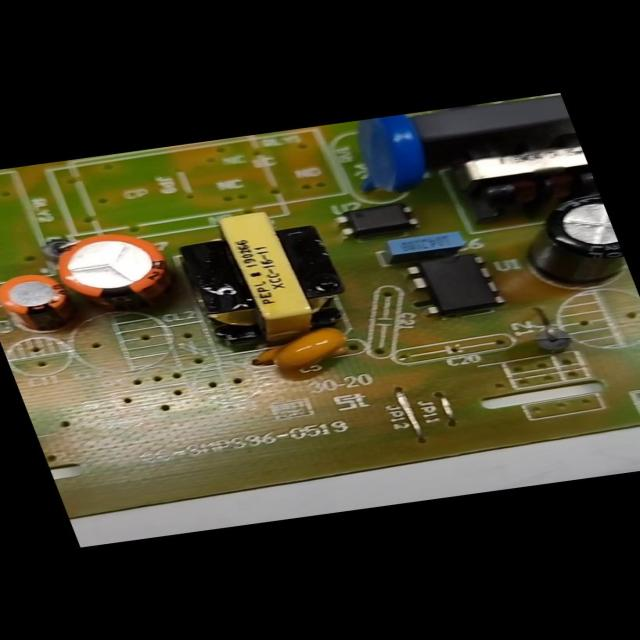Cap1: (44, 229, 174, 303)
Cap2: (0, 270, 78, 334)
Cap3: (508, 192, 630, 286)
MOSFET: (406, 252, 506, 316)
Mov: (329, 114, 440, 196)
Transformer: (170, 205, 357, 346), (453, 132, 597, 207)
